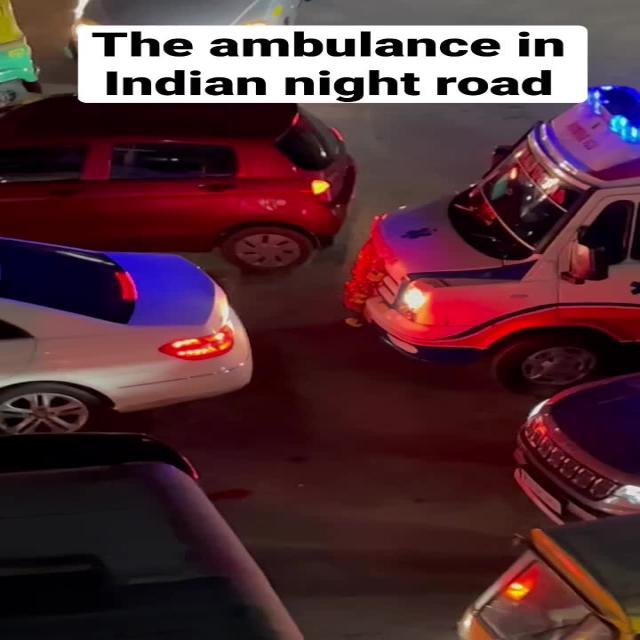ambulance: (377, 97, 640, 380)
